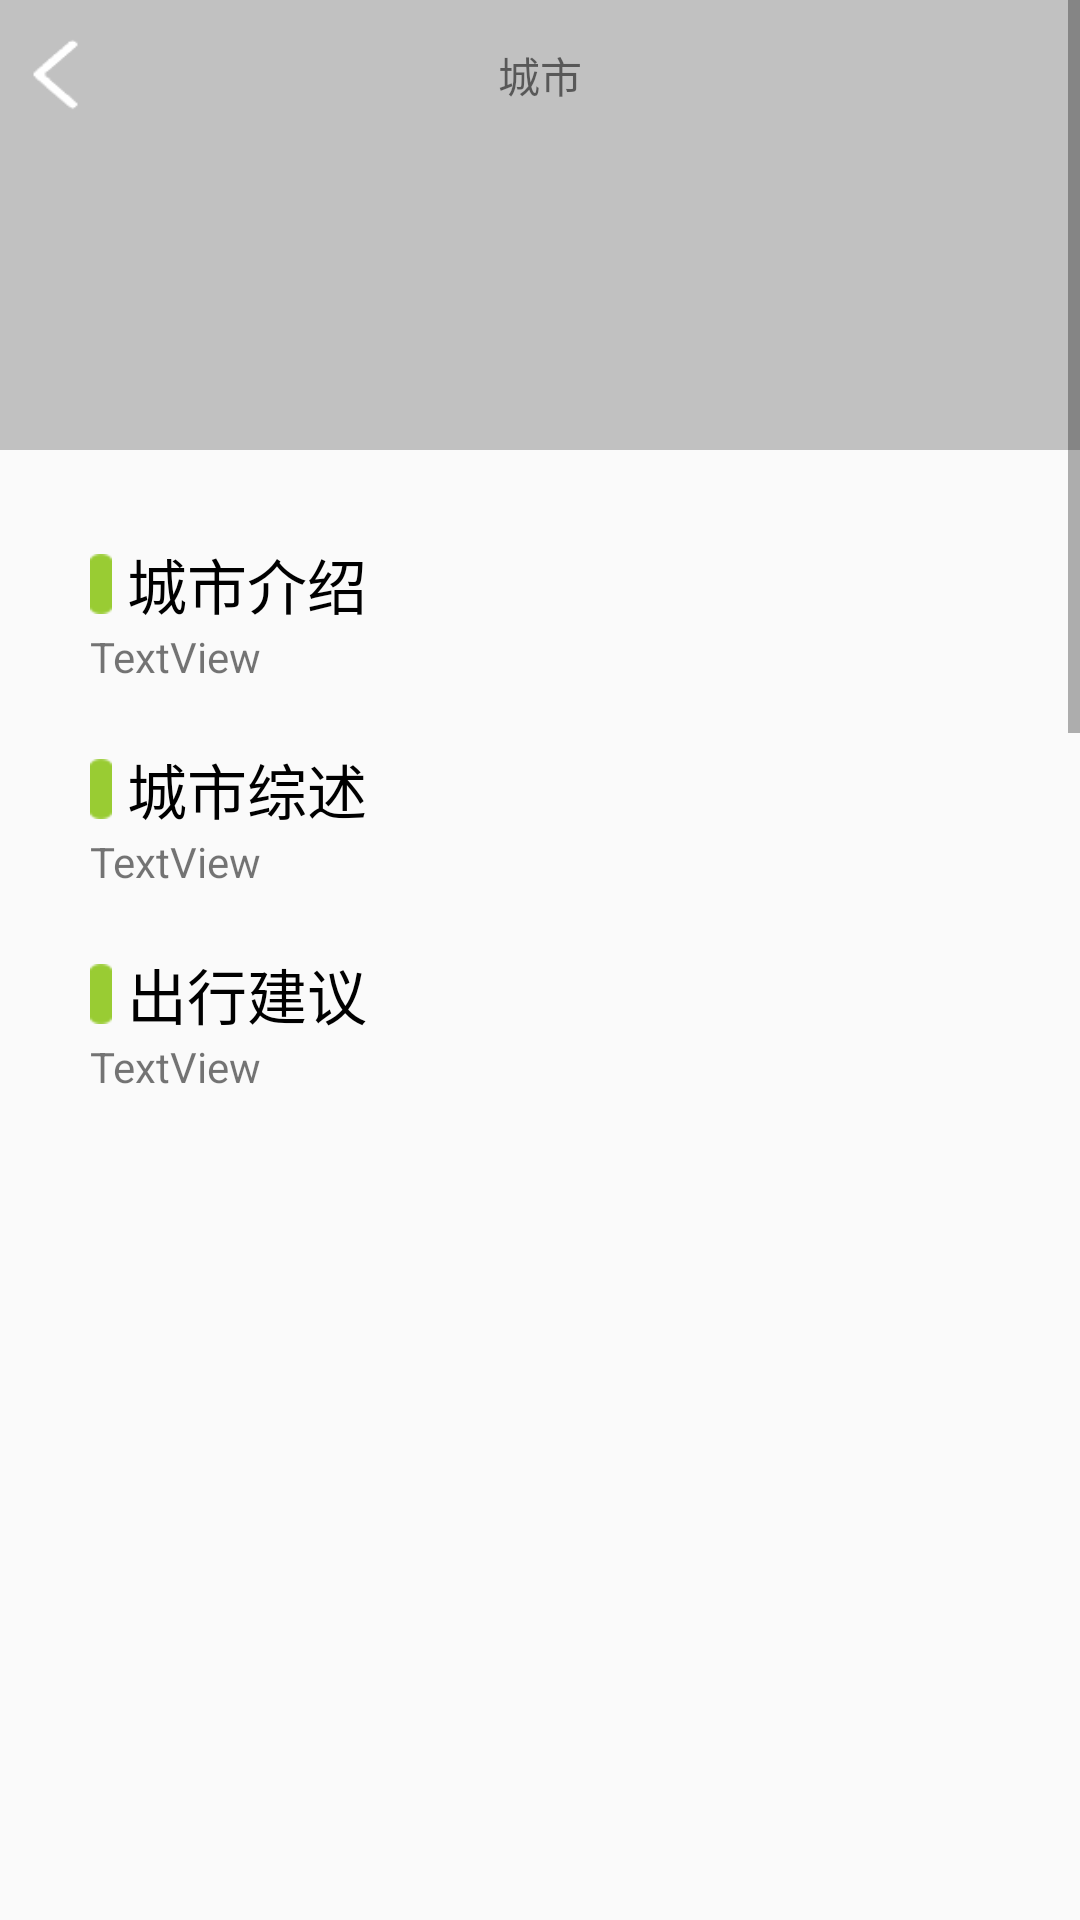

Where to tap for icons on this 1080*1920 app screen, as point (x, y):
back: point (55, 75)
